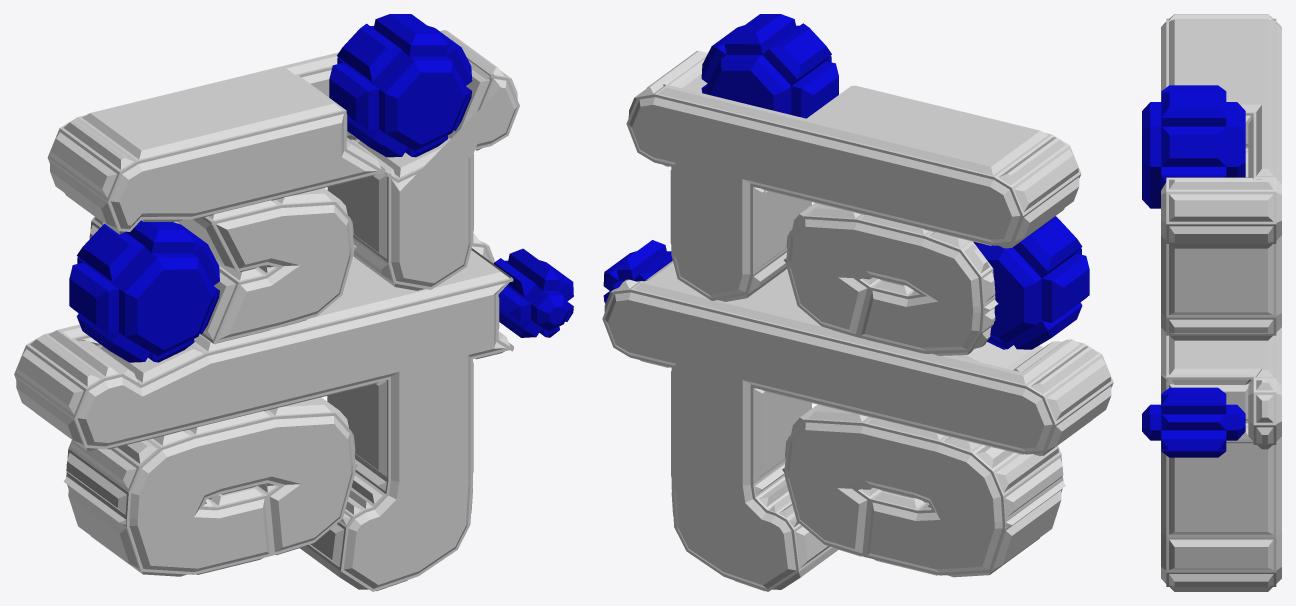
The model's file is Ch_China_哥_01.fbx.
The picture shows the model from 3 angles, left to right: view 1: azimuth 30°, elevation 25°; view 2: azimuth 150°, elevation 25°; view 3: azimuth 270°, elevation 25°; orthographic projection. The views are drawn at different scales.
Visible parts, largest first — view 1: sphere1; view 2: sphere1; view 3: sphere1.
Boxes of the visible parts, box(x1,y1,x2,y2) form: sphere1: box(14, 14, 573, 591); sphere1: box(602, 14, 1113, 591); sphere1: box(1142, 14, 1281, 591).
Size of the model in its own units: 0.9603 by 1.01 by 0.2541.
